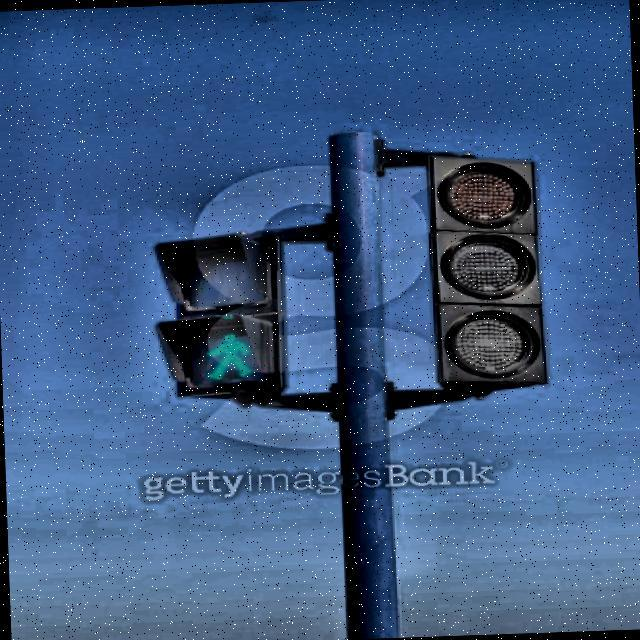green_light: (199, 328, 255, 380)
